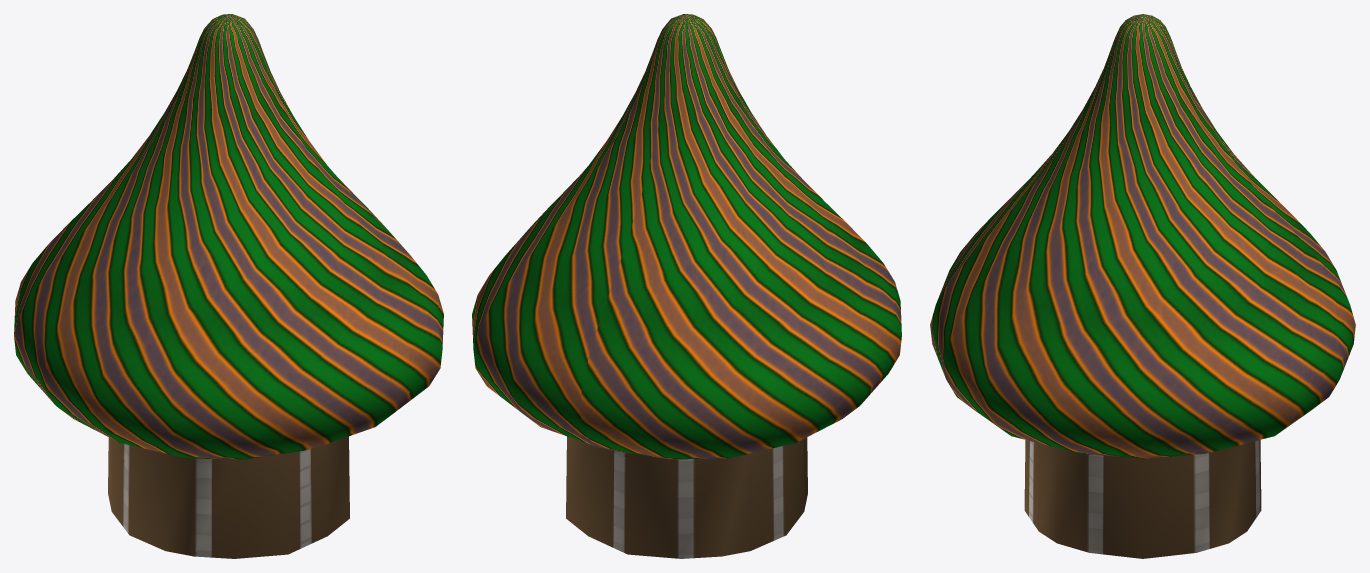
Rendered from Zwiebel_A_01.fbx.
3 renders of one model, left to right at view 1: azimuth 30°, elevation 25°; view 2: azimuth 150°, elevation 25°; view 3: azimuth 270°, elevation 25°, orthographic.
Parts seen in each view (by area): view 1: Zwiebel_A_01; view 2: Zwiebel_A_01; view 3: Zwiebel_A_01.
Boxes of the visible parts, left/top/right/bottom form: Zwiebel_A_01: left=14, top=14, right=443, bottom=558; Zwiebel_A_01: left=472, top=14, right=901, bottom=558; Zwiebel_A_01: left=930, top=14, right=1355, bottom=558.
Bounding box in the file's own units: 46.25 × 59.2 × 46.25.
